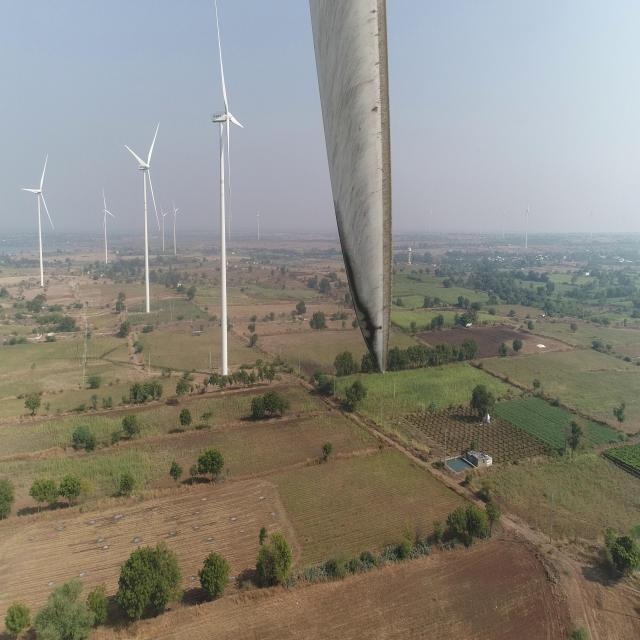Dirt: (310, 0, 398, 358)
Oil LEAKAGE: (333, 207, 386, 369)
Pin Hole: (369, 102, 381, 116)
